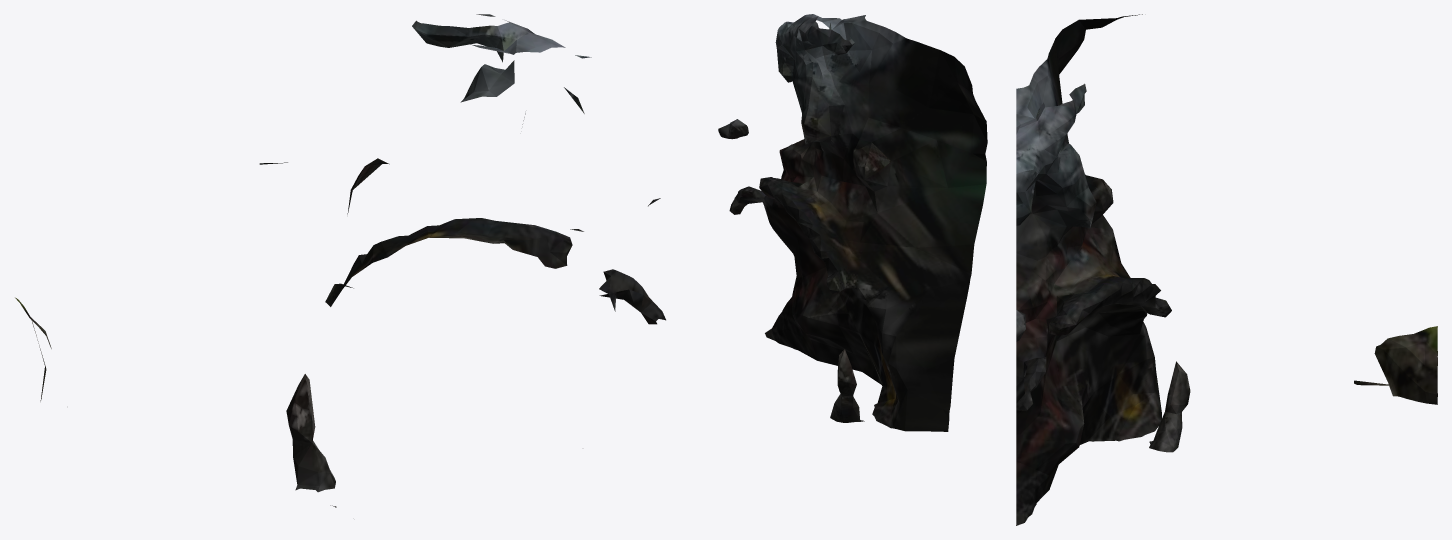
The picture shows the model from 3 angles, left to right: view 1: azimuth 30°, elevation 25°; view 2: azimuth 150°, elevation 25°; view 3: azimuth 270°, elevation 25°; orthographic projection. The views are drawn at different scales.
Bounding box in the file's own units: 0.7288 × 0.8374 × 0.8374.
2 materials, 2 textured.
